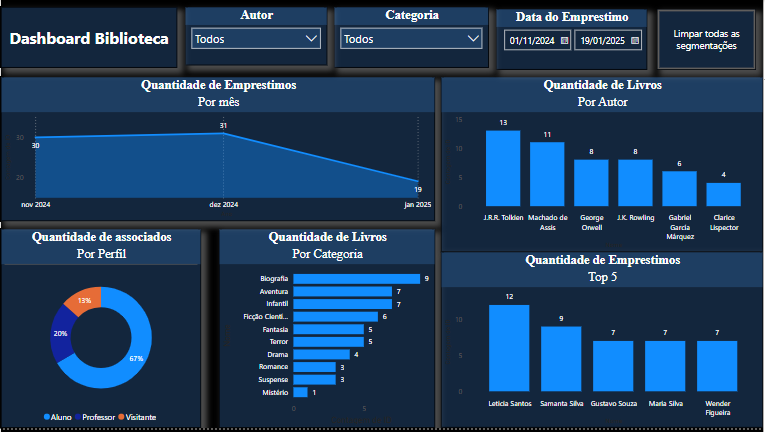

The page's visual inventory and layout, read from the dashboard file:
{"tool":"powerbi","page":{"name":"Página 1","canvas":[1280,720],"ordinal":0},"visuals":[{"type":"donutChart","title":"Quantidade de associados ","fields":{"Y":["Associados.ID"],"Category":["TiposAssociado.Nome"]},"box":[0,386.4,336,334.3],"z":0},{"type":"barChart","title":"Quantidade de Livros ","fields":{"Category":["Categorias.Nome"],"Y":["Livros.ID"]},"box":[366.2,386.4,362.8,334.3],"z":1000},{"type":"areaChart","title":"Quantidade de Emprestimos ","fields":{"Y":["Emprestimos.ID"],"Category":["Emprestimos.DataEmprestimo.Variation.Hierarquia de datas.Ano","Emprestimos.DataEmprestimo.Variation.Hierarquia de datas.Mês"]},"box":[0,131,729,241.9],"z":2000},{"type":"columnChart","title":"Quantidade de Livros","fields":{"Y":["Livros.ID"],"Category":["Autores.Nome"]},"box":[739.1,131,540.9,294],"z":3000},{"type":"columnChart","title":"Quantidade de Emprestimos ","fields":{"Y":["Emprestimos.ID"],"Category":["Associados.Nome"]},"box":[739,425,541,295],"z":4000},{"type":"slicer","title":"Data do Emprestimo","fields":{"Values":["Emprestimos.DataEmprestimo"]},"box":[831.5,16.8,253.6,102.5],"z":5000},{"type":"slicer","title":"Categoria ","fields":{"Values":["Categorias.Nome"]},"box":[559,13.2,260.5,102.4],"z":6000},{"type":"slicer","title":"Autor ","fields":{"Values":["Autores.Nome"]},"box":[308.8,13.2,238.5,98],"z":7000},{"type":"actionButton","box":[1101.9,16.8,166.3,102.5],"z":8000},{"type":"actionButton","box":[0,13.4,295.6,102.5],"z":9000}]}

Visuals, with their boxes in screenshot pixels (x1, y1, x2, y2), scaled from the page's 1280x720 canvas onto the 765x432 screenshot:
"Quantidade de associados " donutChart: 0:232:201:431
"Quantidade de Livros " barChart: 219:232:436:431
"Quantidade de Emprestimos " areaChart: 0:79:436:224
"Quantidade de Livros" columnChart: 442:79:764:255
"Quantidade de Emprestimos " columnChart: 442:255:764:431
"Data do Emprestimo" slicer: 497:10:649:72
"Categoria " slicer: 334:8:490:69
"Autor " slicer: 185:8:327:67
actionButton: 659:10:758:72
actionButton: 0:8:177:70
